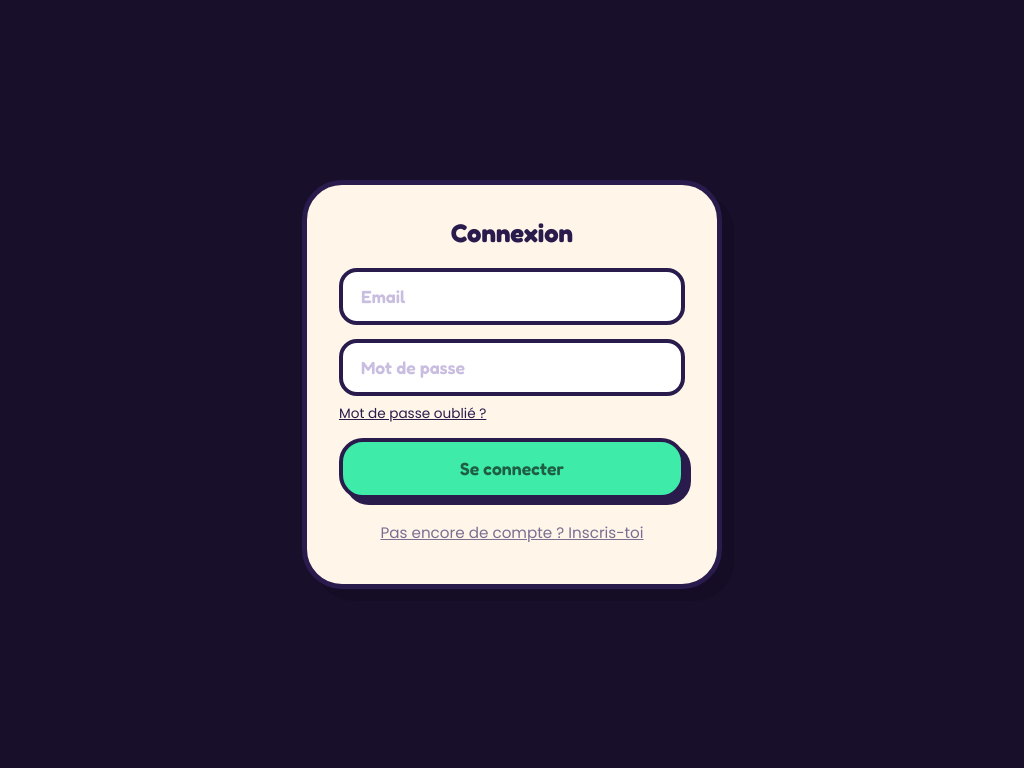
it: AuthOverlay › announces the inactivity deletion at signup
What coordinates should you click on to do the following:
click the button "Pas encore de compte ? Inscris-toi"
I would click on:
 (512, 532)
Its box is [339,512,685,552].
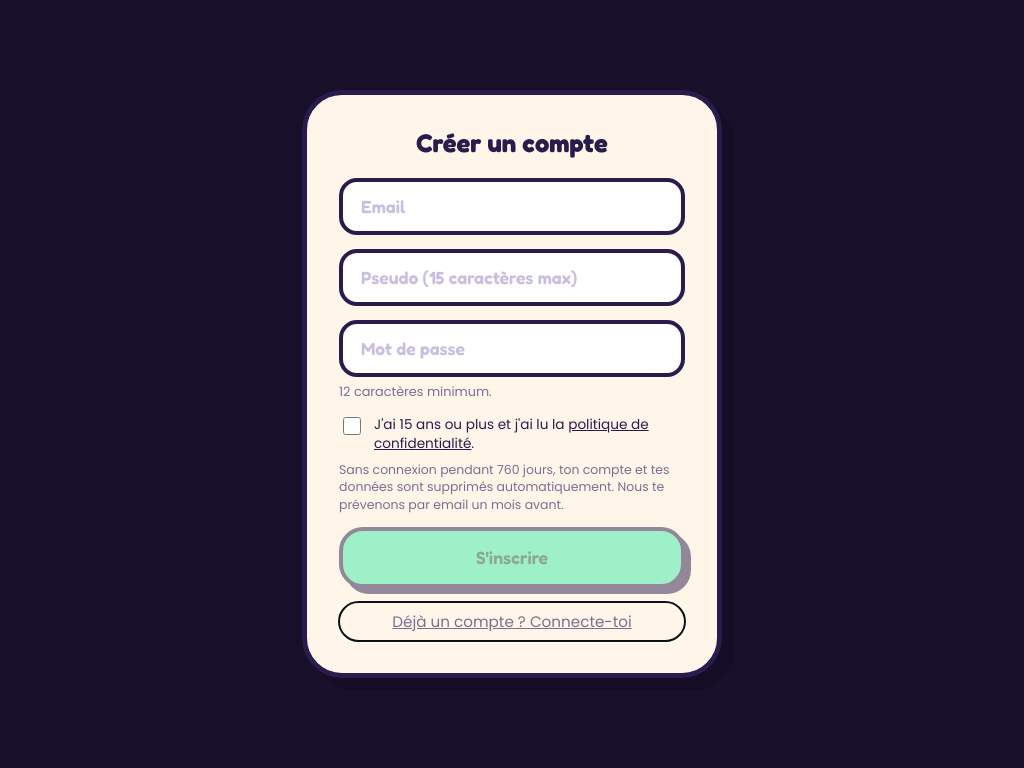
Expected: the text "760 jours" is shown, [339,461,670,513]
